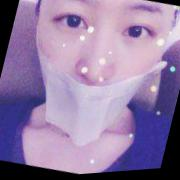WRONG: (12, 1, 177, 153)
